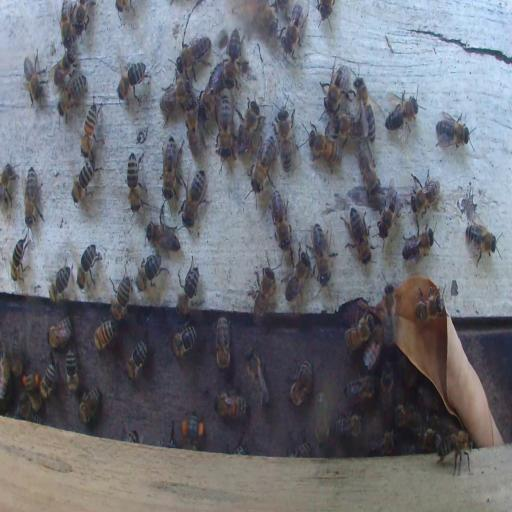bee: (341, 205, 373, 266), (383, 87, 424, 133), (274, 96, 298, 172), (434, 108, 476, 151), (319, 57, 350, 112), (180, 171, 209, 229), (305, 124, 342, 168), (439, 430, 475, 475), (466, 220, 502, 265), (244, 348, 270, 409), (222, 26, 246, 92), (310, 224, 338, 278), (116, 60, 150, 104), (176, 36, 210, 80), (249, 268, 277, 320), (282, 4, 308, 60), (176, 260, 200, 320), (71, 155, 100, 204), (23, 49, 46, 110), (355, 74, 376, 140), (410, 170, 440, 216), (357, 143, 380, 202), (285, 250, 311, 302), (237, 96, 263, 147), (251, 138, 276, 191), (376, 186, 399, 242), (403, 223, 436, 262), (80, 100, 102, 157), (23, 166, 43, 228), (76, 242, 101, 291), (288, 359, 313, 407), (271, 190, 291, 248), (59, 74, 87, 115), (48, 259, 72, 306), (145, 222, 180, 254), (344, 313, 374, 350), (125, 338, 148, 386), (109, 272, 131, 322), (22, 368, 44, 418), (126, 152, 144, 212), (213, 392, 248, 422), (162, 136, 177, 201), (344, 375, 376, 404), (218, 92, 232, 157), (171, 323, 197, 358), (78, 386, 101, 425), (136, 254, 164, 286), (10, 236, 29, 283), (47, 315, 72, 350), (215, 315, 230, 373), (0, 158, 18, 206), (392, 403, 422, 431), (382, 283, 396, 342), (182, 411, 204, 448), (315, 388, 329, 446), (334, 411, 364, 438), (39, 356, 57, 401), (378, 364, 394, 412), (93, 319, 117, 351), (369, 429, 397, 456), (53, 52, 75, 86), (414, 297, 442, 323), (411, 428, 439, 453), (364, 333, 382, 371), (334, 112, 358, 140), (198, 90, 219, 119), (316, 1, 335, 31), (66, 347, 78, 394), (11, 334, 23, 380), (60, 4, 72, 48), (185, 100, 198, 138), (1, 349, 10, 397), (290, 439, 310, 458), (159, 426, 176, 447), (18, 393, 31, 420), (230, 438, 248, 455), (428, 411, 441, 434), (124, 428, 140, 442)
